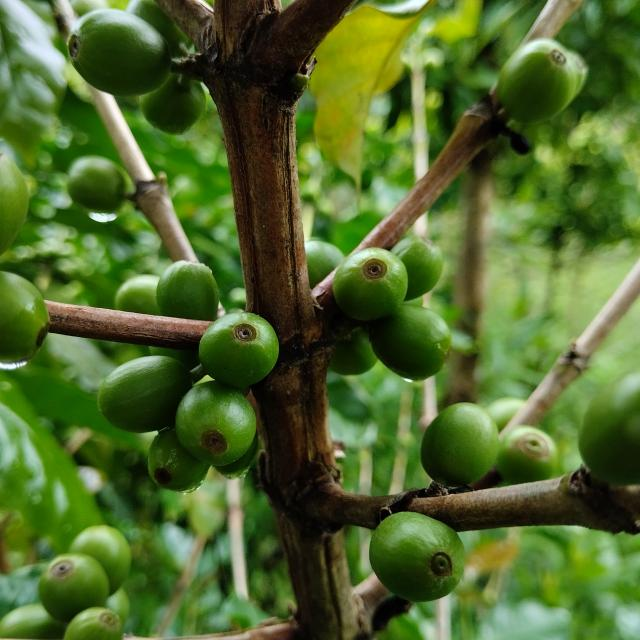green: (67, 8, 171, 95), (370, 513, 466, 603), (498, 37, 589, 122), (97, 356, 192, 433), (175, 381, 256, 467), (580, 372, 640, 486), (421, 403, 500, 487), (370, 304, 452, 381), (199, 312, 279, 388), (333, 248, 408, 321), (37, 554, 109, 623), (0, 271, 49, 363), (69, 526, 131, 596), (138, 72, 206, 134), (148, 428, 210, 493), (156, 260, 219, 321), (498, 426, 559, 485), (391, 235, 444, 301), (67, 155, 124, 212), (0, 152, 28, 255), (329, 328, 378, 375), (0, 605, 65, 640), (305, 240, 345, 289), (63, 608, 122, 640), (114, 274, 160, 315)
